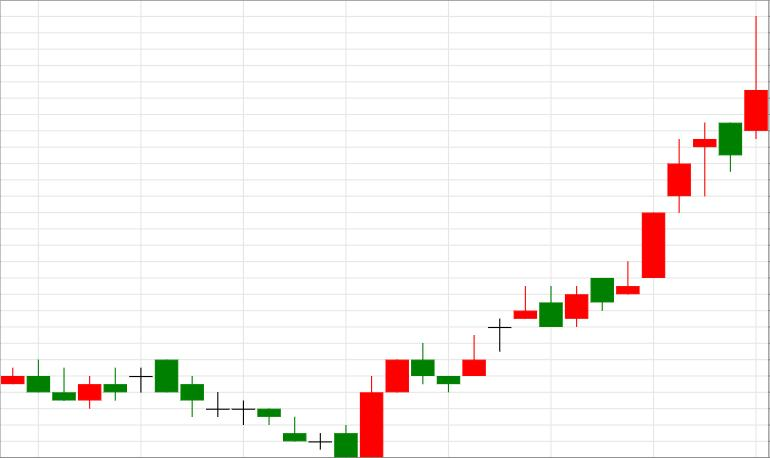bullish_engulfing_rise: (156, 359, 383, 458)
shooting_star_fall: (617, 15, 768, 294)
